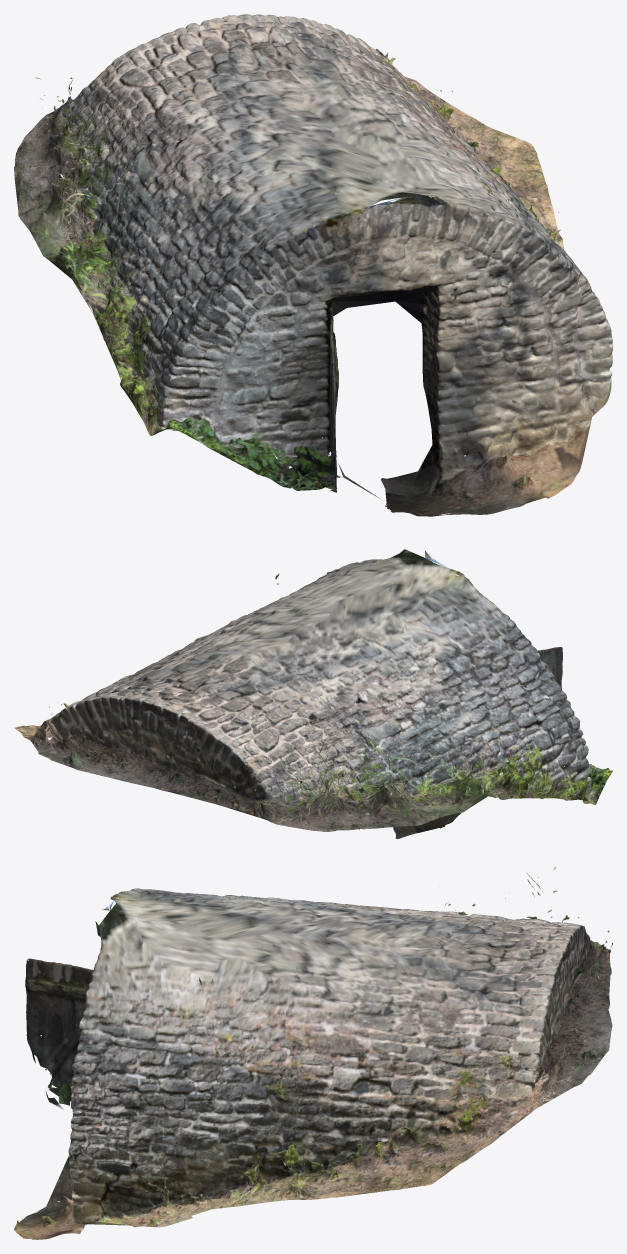
Rendered from springhouse-outside.glb.
3 renders of one model, top to bottom at view 1: azimuth 30°, elevation 25°; view 2: azimuth 150°, elevation 25°; view 3: azimuth 270°, elevation 25°, orthographic. The views are drawn at different scales.
Visible parts, largest first — view 1: dequantize; view 2: dequantize; view 3: dequantize.
Part boxes in pixels (x1,y1,x2,y2): dequantize: (14, 14, 612, 516); dequantize: (14, 549, 612, 838); dequantize: (14, 867, 612, 1239).
Size of the model in its own units: 5.01 by 2.82 by 5.16.
Materials: 1 (1 with a texture image).
